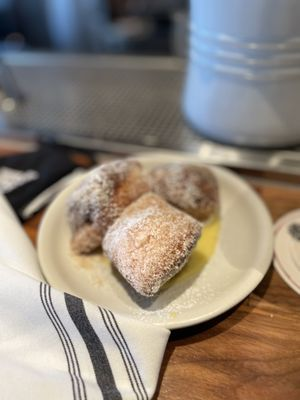pizza: (179, 0, 300, 150)
